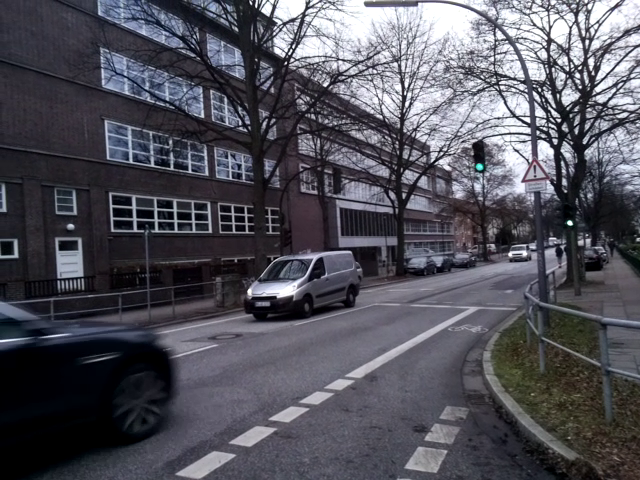car: (242, 256, 369, 317)
